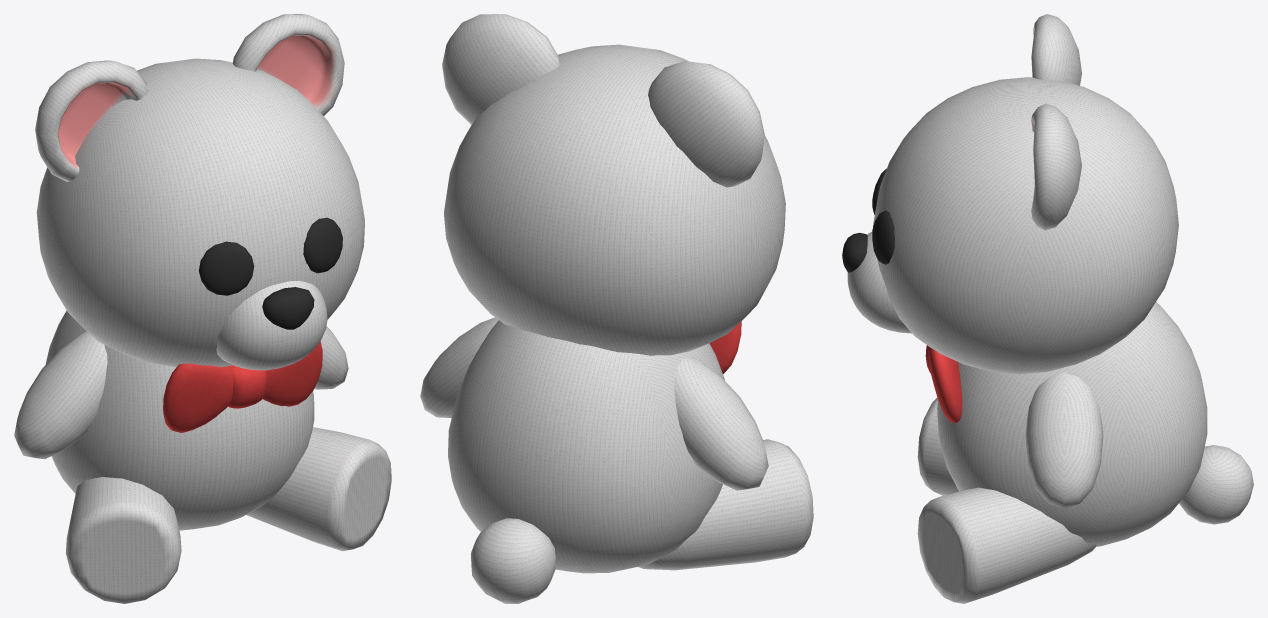
The model's file is Teddy.fbx.
3 renders of one model, left to right at view 1: azimuth 30°, elevation 25°; view 2: azimuth 150°, elevation 25°; view 3: azimuth 270°, elevation 25°, orthographic. The views are drawn at different scales.
Visible parts, largest first — view 1: Teddy; view 2: Teddy; view 3: Teddy.
Boxes of the visible parts, x1,y1,x2,y2 form: Teddy: [14, 14, 391, 603]; Teddy: [420, 14, 813, 603]; Teddy: [842, 14, 1253, 603].
Bounding box in the file's own units: 166 × 242 × 188.
1 material, 1 textured.
